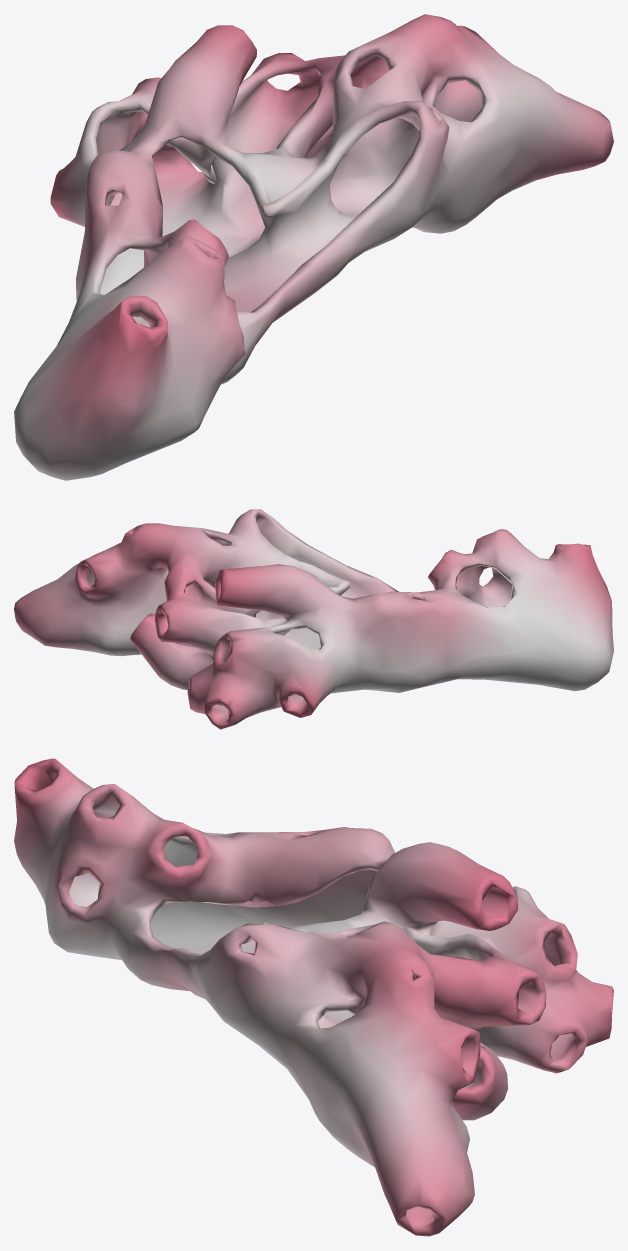
File: Vir_Colorized_LowPoly.fbx
The picture shows the model from 3 angles, top to bottom: view 1: azimuth 30°, elevation 25°; view 2: azimuth 150°, elevation 25°; view 3: azimuth 270°, elevation 25°; orthographic projection. The views are drawn at different scales.
Parts seen in each view (by area): view 1: Blobby_Virus_LowPoly©George_Adamopoulos; view 2: Blobby_Virus_LowPoly©George_Adamopoulos; view 3: Blobby_Virus_LowPoly©George_Adamopoulos.
Boxes of the visible parts, left/top/right/bottom form: Blobby_Virus_LowPoly©George_Adamopoulos: left=14, top=14, right=613, bottom=480; Blobby_Virus_LowPoly©George_Adamopoulos: left=14, top=509, right=613, bottom=729; Blobby_Virus_LowPoly©George_Adamopoulos: left=14, top=758, right=613, bottom=1236.
Bounding box in the file's own units: 65.15 × 19.46 × 45.22.
